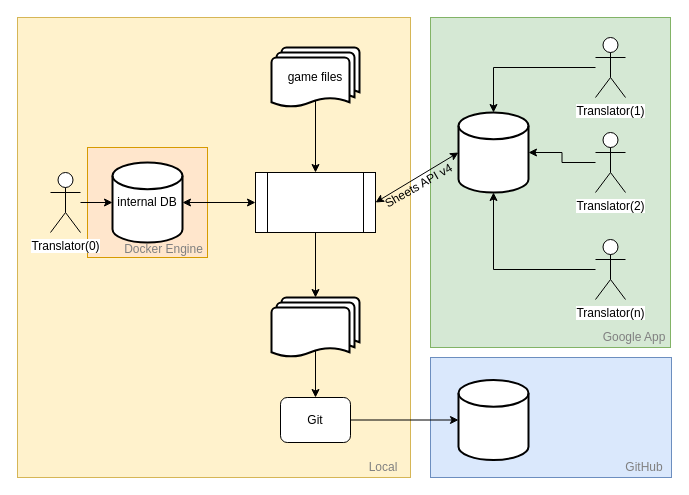
The diagram is 689 pixels wide and 495 high, and some of its shapes have lost their labels. The shapes that lost their labels are listed below. From the top down, each one's box as (x1, y1, x2, y2) in pixels, then its label:
(457, 111, 529, 193): Google Sheet Data
(254, 172, 376, 232): Hoi4-TH-Localisation-Manager
(270, 296, 360, 358): mod files
(457, 378, 529, 460): Repository
